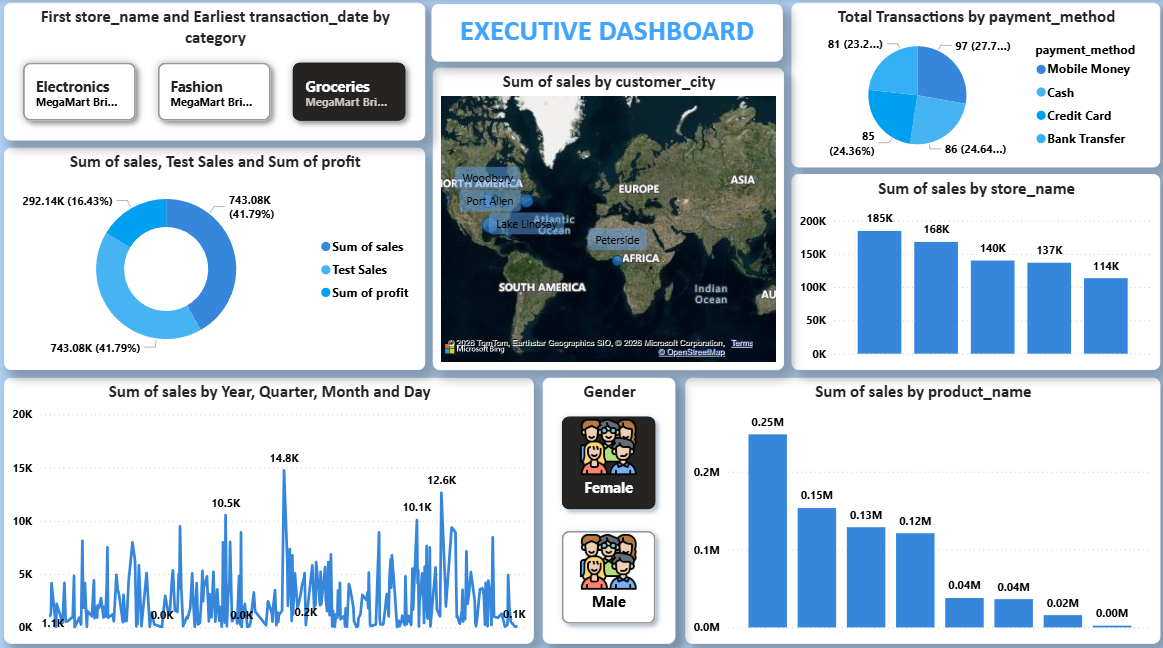

Layout of this report page (visuals, bound fields, positions):
{"tool":"powerbi","page":{"name":"EXECUTIVE DASHBOARD","canvas":[1280,720],"ordinal":0},"visuals":[{"type":"lineChart","fields":{"Y":["Sum(public master_sales.sales)"],"Category":["public master_sales.transaction_date.Variation.Date Hierarchy.Year","public master_sales.transaction_date.Variation.Date Hierarchy.Quarter","public master_sales.transaction_date.Variation.Date Hierarchy.Month","public master_sales.transaction_date.Variation.Date Hierarchy.Day"]},"box":[5.5,415.8,581.8,292.3],"z":0},{"type":"donutChart","fields":{"Y":["Sum(public master_sales.sales)","public master_sales.Test Sales","Sum(public master_sales.profit)"]},"box":[5.5,163.3,462.4,244.3],"z":1000},{"type":"clusteredColumnChart","fields":{"Category":["public master_sales.product_name"],"Y":["Sum(public master_sales.sales)"]},"box":[753.3,415.8,521.4,292.3],"z":2000},{"type":"pieChart","fields":{"Category":["public master_sales.payment_method"],"Y":["public master_sales.Total Transactions"]},"box":[870,4.1,404.8,181.1],"z":3000},{"type":"clusteredColumnChart","fields":{"Category":["public master_sales.store_name"],"Y":["Sum(public master_sales.sales)"]},"box":[870,192.1,404.8,215.4],"z":4000},{"type":"map","fields":{"Category":["public master_sales.customer_city"],"Size":["Sum(public master_sales.sales)"]},"box":[476.2,75.5,385.6,332.1],"z":5000},{"type":"advancedSlicerVisual","fields":{"Values":["public master_sales.category"],"Label":["Min(public master_sales.store_name)"]},"box":[5.5,4.1,462.4,150.9],"z":6000},{"type":"textbox","box":[474.8,5.5,385.6,63.1],"z":7000},{"type":"advancedSlicerVisual","title":"Gender","fields":{"Values":["public master_sales.gender"]},"box":[596.9,415.8,145.5,292.3],"z":8000}]}

Visuals, with their boxes in screenshot pixels (x1, y1, x2, y2), scaled from the page's 1280x720 canvas onto the 1163x648 screenshot:
lineChart - Sum(public master_sales.sales) x public master_sales.transaction_date.Variation.Date Hierarchy.Year: region(5, 374, 534, 637)
donutChart - Sum(public master_sales.sales) x public master_sales.Test Sales: region(5, 147, 425, 367)
clusteredColumnChart - public master_sales.product_name x Sum(public master_sales.sales): region(684, 374, 1158, 637)
pieChart - public master_sales.payment_method x public master_sales.Total Transactions: region(790, 4, 1158, 167)
clusteredColumnChart - public master_sales.store_name x Sum(public master_sales.sales): region(790, 173, 1158, 367)
map - public master_sales.customer_city x Sum(public master_sales.sales): region(433, 68, 783, 367)
advancedSlicerVisual - public master_sales.category x Min(public master_sales.store_name): region(5, 4, 425, 140)
textbox: region(431, 5, 782, 62)
"Gender" advancedSlicerVisual: region(542, 374, 675, 637)
